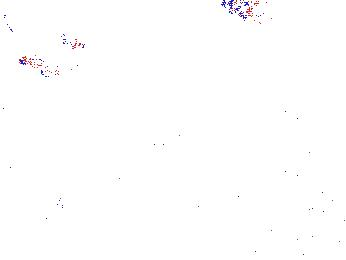X-ray fish: (219, 1, 272, 25)
glassfish: (74, 125, 185, 194)
red belly glassfish: (16, 51, 65, 70), (37, 64, 88, 82), (264, 111, 301, 128), (61, 36, 88, 53)
